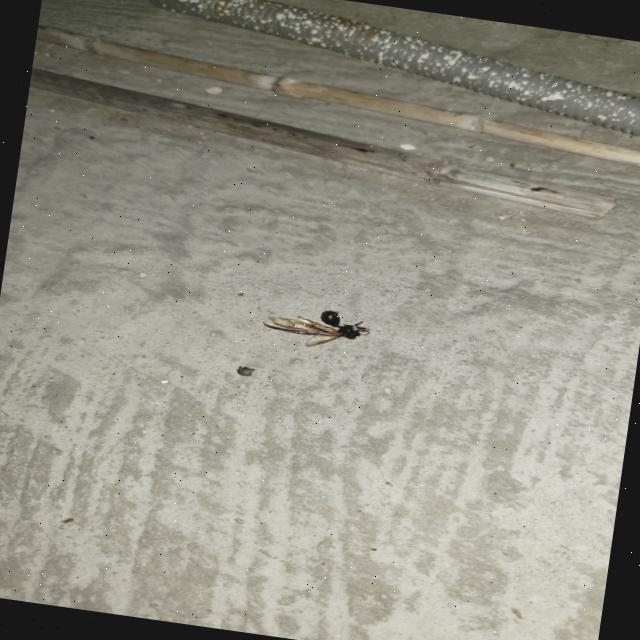Dead-Male-Alate: (260, 301, 372, 355)
